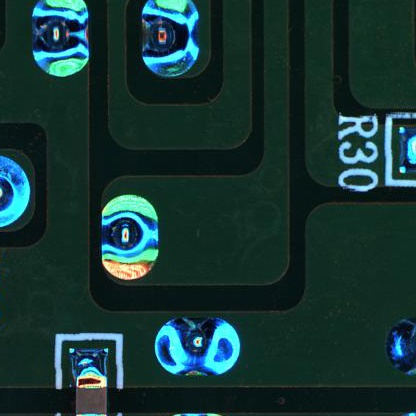spot: (88, 179, 168, 293), (143, 304, 254, 383)
